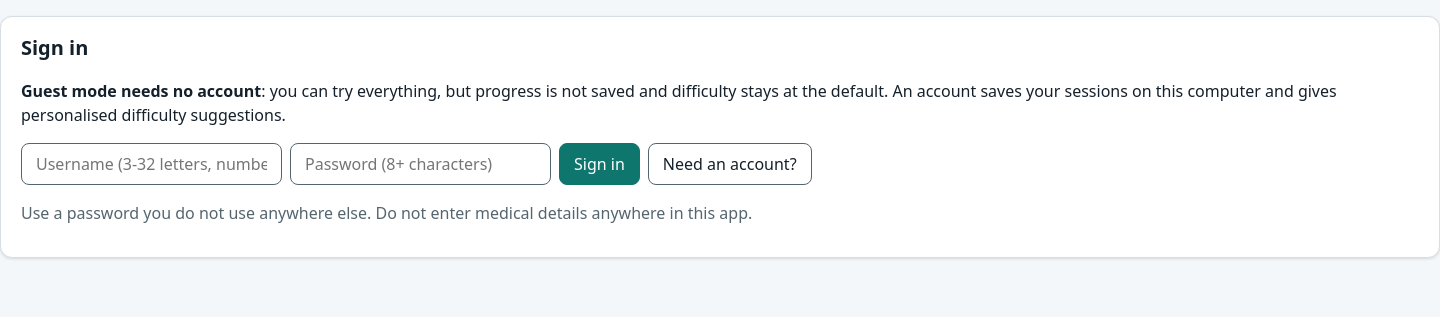
Test: AccountPanel › shows the server's error and does not navigate when sign-in fails
Type "ann" into the field labelled "Username" at (152, 164), box [21,143,282,185]
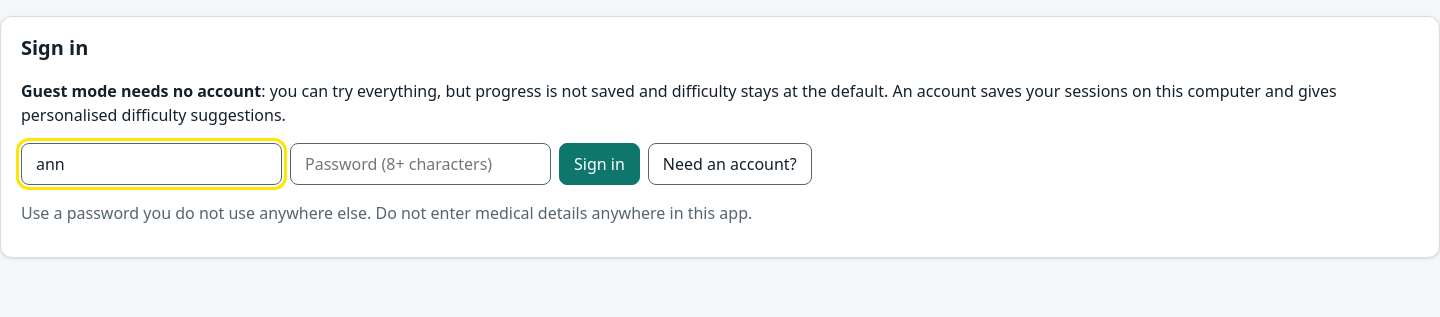
Type "wrong-password" into the password field labelled "Password" at (420, 164), box [290,143,551,185]
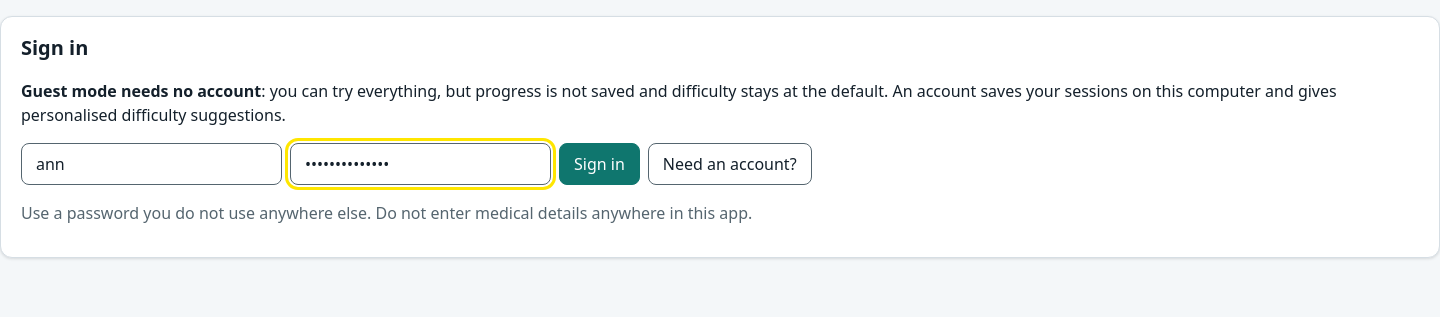
Click the button "Sign in" at (599, 164), box [559,143,640,185]
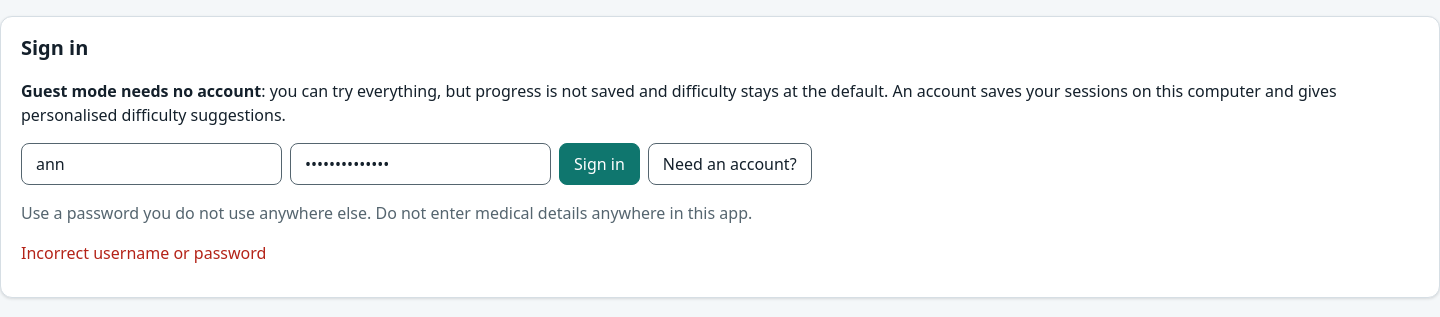
Check: the message reads "Incorrect username or password", box [21,242,266,264]
